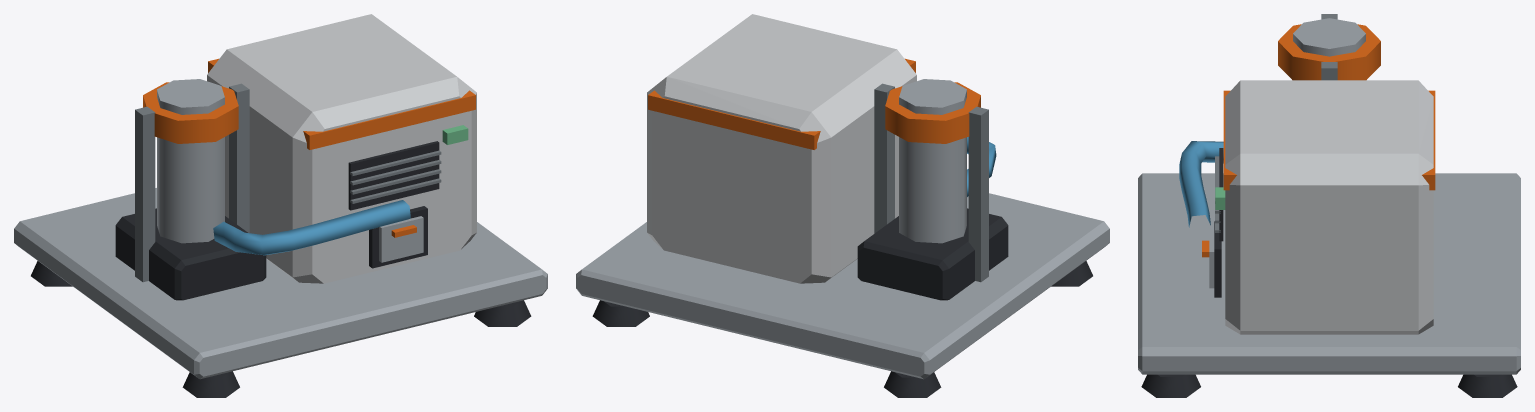
The model's file is ice_extractor.glb.
3 views of the same model, side by side, from view 1: azimuth 30°, elevation 25°; view 2: azimuth 150°, elevation 25°; view 3: azimuth 270°, elevation 25° (orthographic). The views are drawn at different scales.
Parts seen in each view (by area): view 1: static_body_mesh.009, service_panel_mesh.009; view 2: static_body_mesh.009; view 3: static_body_mesh.009, service_panel_mesh.009.
Part boxes in pixels (bbox=[...]): static_body_mesh.009: bbox=[14, 14, 547, 397]; service_panel_mesh.009: bbox=[369, 206, 427, 268]; static_body_mesh.009: bbox=[576, 14, 1109, 397]; static_body_mesh.009: bbox=[1138, 14, 1520, 397]; service_panel_mesh.009: bbox=[1202, 221, 1221, 297].
Bounding box in the file's own units: 2.55 × 1.55 × 2.3.
